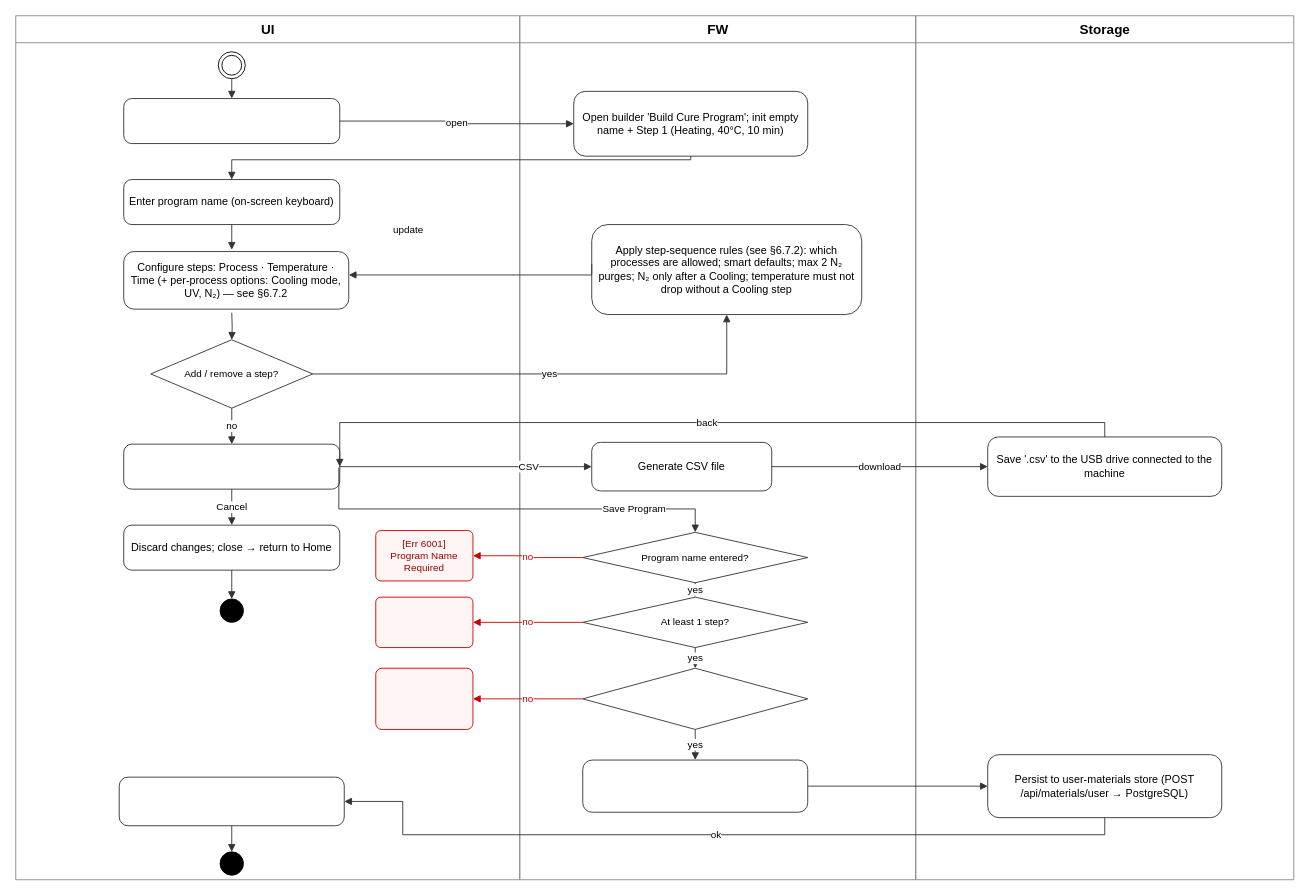
This 1310x896 diagram has some shape labels left out. The centre of each missing label's shape, as x and y in pixels:
"[Err 6002] No Steps Defined" goes at [424,622].
"[Err 6003] Invalid N₂ Purge Sequence" goes at [424,698].
"Add new user program (compute total duration)" goes at [695,785].
"Choose an action" goes at [231,466].
"Each N₂ → Cure/Bleaching → Cooling?" goes at [695,698].
"New program added & auto-selected; builder closes" goes at [231,801].
"Press '+ New' (Material List action)" goes at [231,121].
